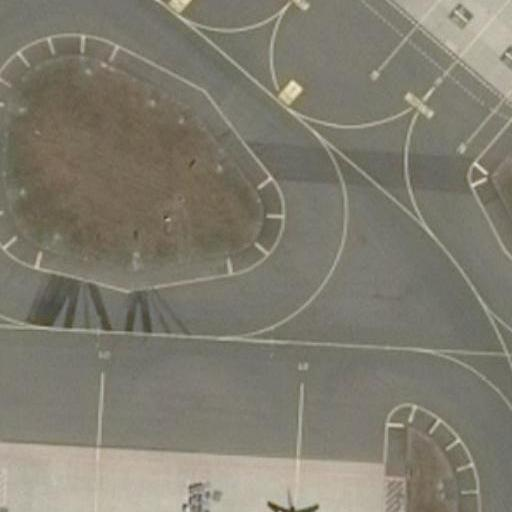Aircraft: (222, 502, 368, 512)
